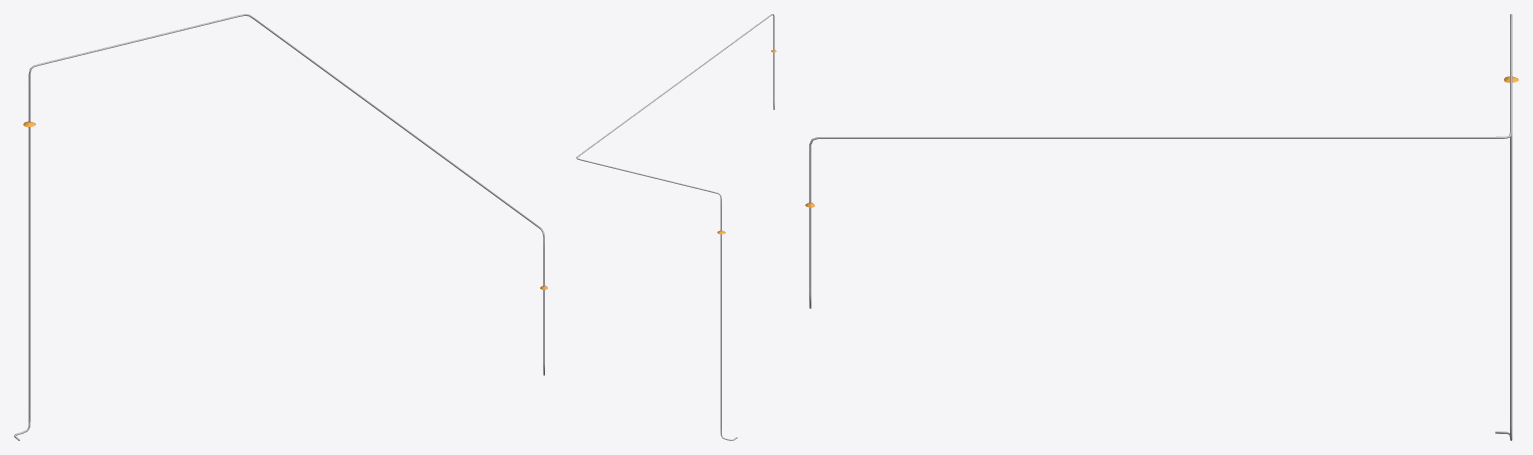
Rendered from slab_pipes_hvac__water_heater-garage_electric_tankless.glb.
The picture shows the model from 3 angles, left to right: view 1: azimuth 30°, elevation 25°; view 2: azimuth 150°, elevation 25°; view 3: azimuth 270°, elevation 25°; orthographic projection. The views are drawn at different scales.
Visible parts, largest first — view 1: cable_wh_etankless; view 2: cable_wh_etankless; view 3: cable_wh_etankless.
Part boxes in pixels (bbox=[...]): cable_wh_etankless: bbox=[14, 14, 544, 440]; cable_wh_etankless: bbox=[576, 14, 774, 440]; cable_wh_etankless: bbox=[809, 14, 1512, 440].
Size of the model in its own units: 1.91 by 2.79 by 4.18.
